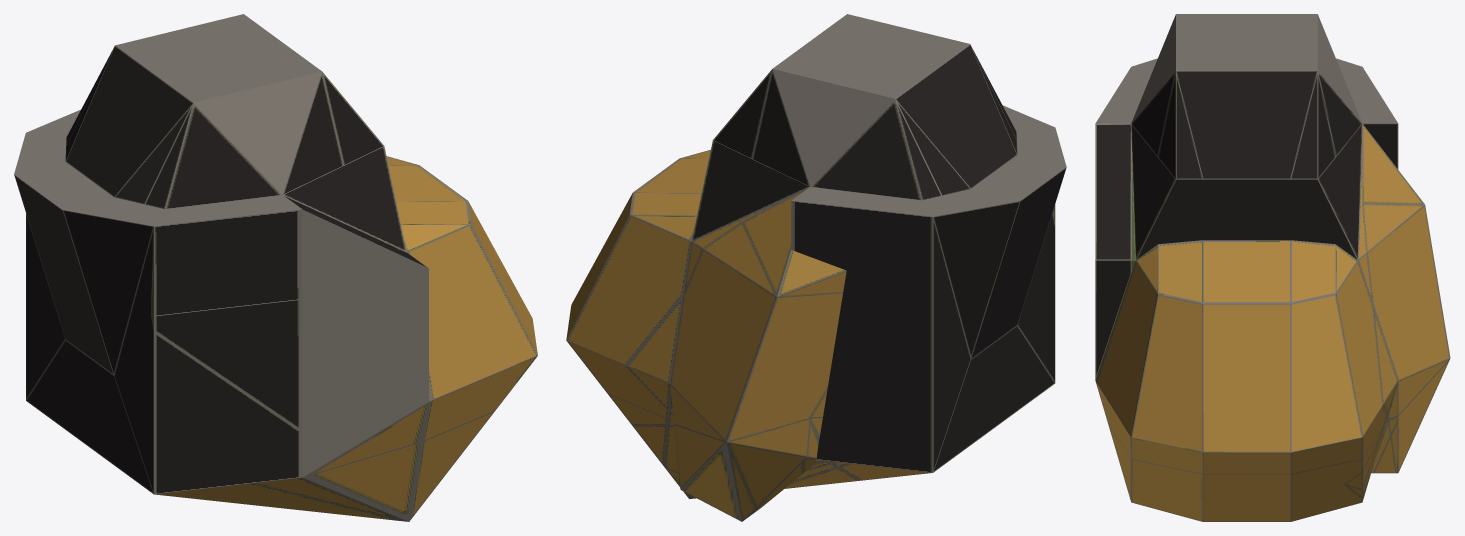
The model's file is LHand.fbx.
3 views of the same model, side by side, from view 1: azimuth 30°, elevation 25°; view 2: azimuth 150°, elevation 25°; view 3: azimuth 270°, elevation 25° (orthographic). The views are drawn at different scales.
Visible parts, largest first — view 1: Shape_IndexedFaceSet.038, Shape_IndexedFaceSet.036, Shape_IndexedFaceSet.037; view 2: Shape_IndexedFaceSet.037, Shape_IndexedFaceSet.038, Shape_IndexedFaceSet.036; view 3: Shape_IndexedFaceSet.037, Shape_IndexedFaceSet.036, Shape_IndexedFaceSet.038.
Boxes of the visible parts, <box> form: Shape_IndexedFaceSet.038: <box>14,109,428,494</box>; Shape_IndexedFaceSet.036: <box>65,14,406,251</box>; Shape_IndexedFaceSet.037: <box>154,156,537,521</box>; Shape_IndexedFaceSet.037: <box>566,149,931,521</box>; Shape_IndexedFaceSet.038: <box>791,105,1066,472</box>; Shape_IndexedFaceSet.036: <box>691,14,1017,240</box>; Shape_IndexedFaceSet.037: <box>1095,124,1450,521</box>; Shape_IndexedFaceSet.036: <box>1131,14,1362,259</box>; Shape_IndexedFaceSet.038: <box>1095,58,1398,380</box>.
Size of the model in its own units: 0.1252 by 0.1163 by 0.0907.
